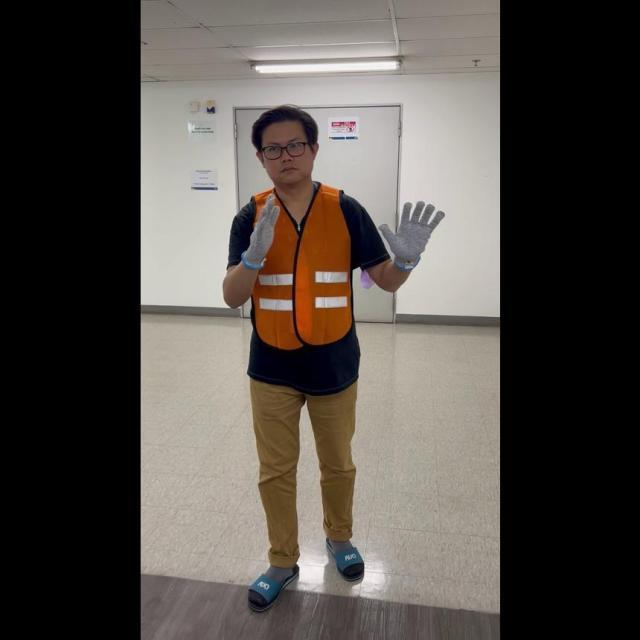gloved_hand: (377, 196, 444, 268), (240, 196, 281, 268)
